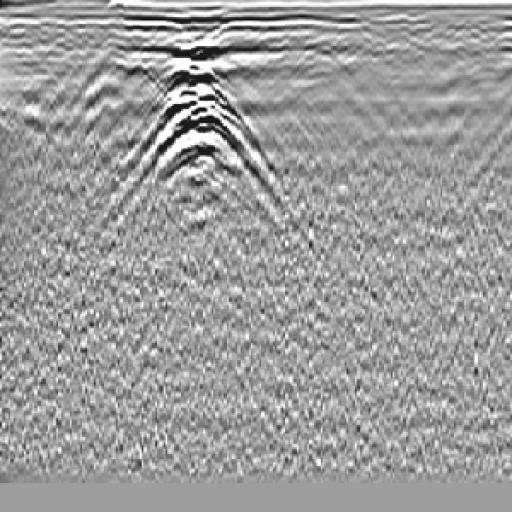metalic: (88, 52, 306, 237)
